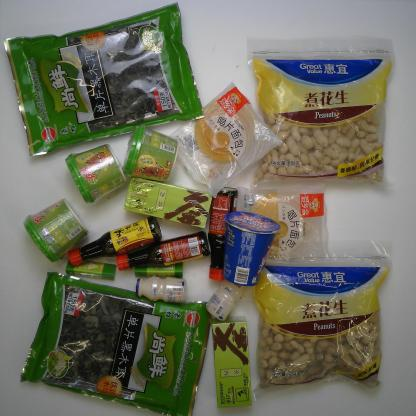Dessert: (175, 82, 280, 196), (235, 184, 331, 258), (223, 209, 281, 286)
Dried Food: (2, 4, 204, 161), (17, 270, 211, 415), (248, 239, 395, 405), (245, 34, 398, 190)
Instant Drink: (124, 177, 212, 230), (24, 197, 90, 266), (64, 142, 130, 206), (211, 314, 254, 410), (125, 120, 176, 183)
Milk: (204, 278, 245, 324), (134, 272, 186, 304)
Seasoner: (69, 216, 161, 264), (116, 229, 212, 274), (204, 185, 240, 283)
Stationery: (132, 260, 186, 282), (64, 262, 118, 282)
